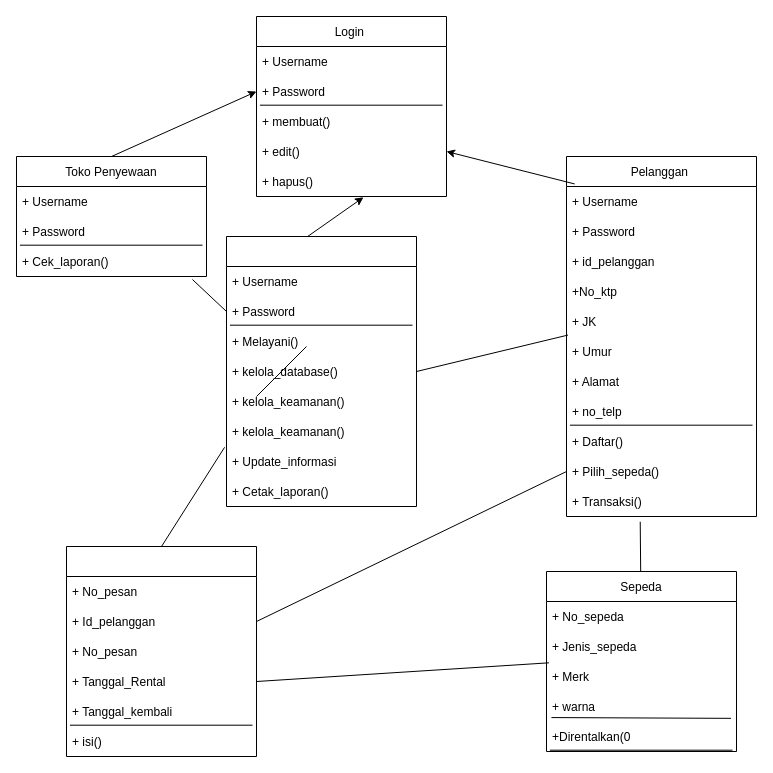
The diagram is 773 pixels wide and 773 high, and some of its shapes have lost their labels. The box of each missing label's shape, as (x1, y1, x2, y2) in pixels:
Admin: (226, 236, 416, 506)
Pemesanan: (66, 546, 256, 756)
